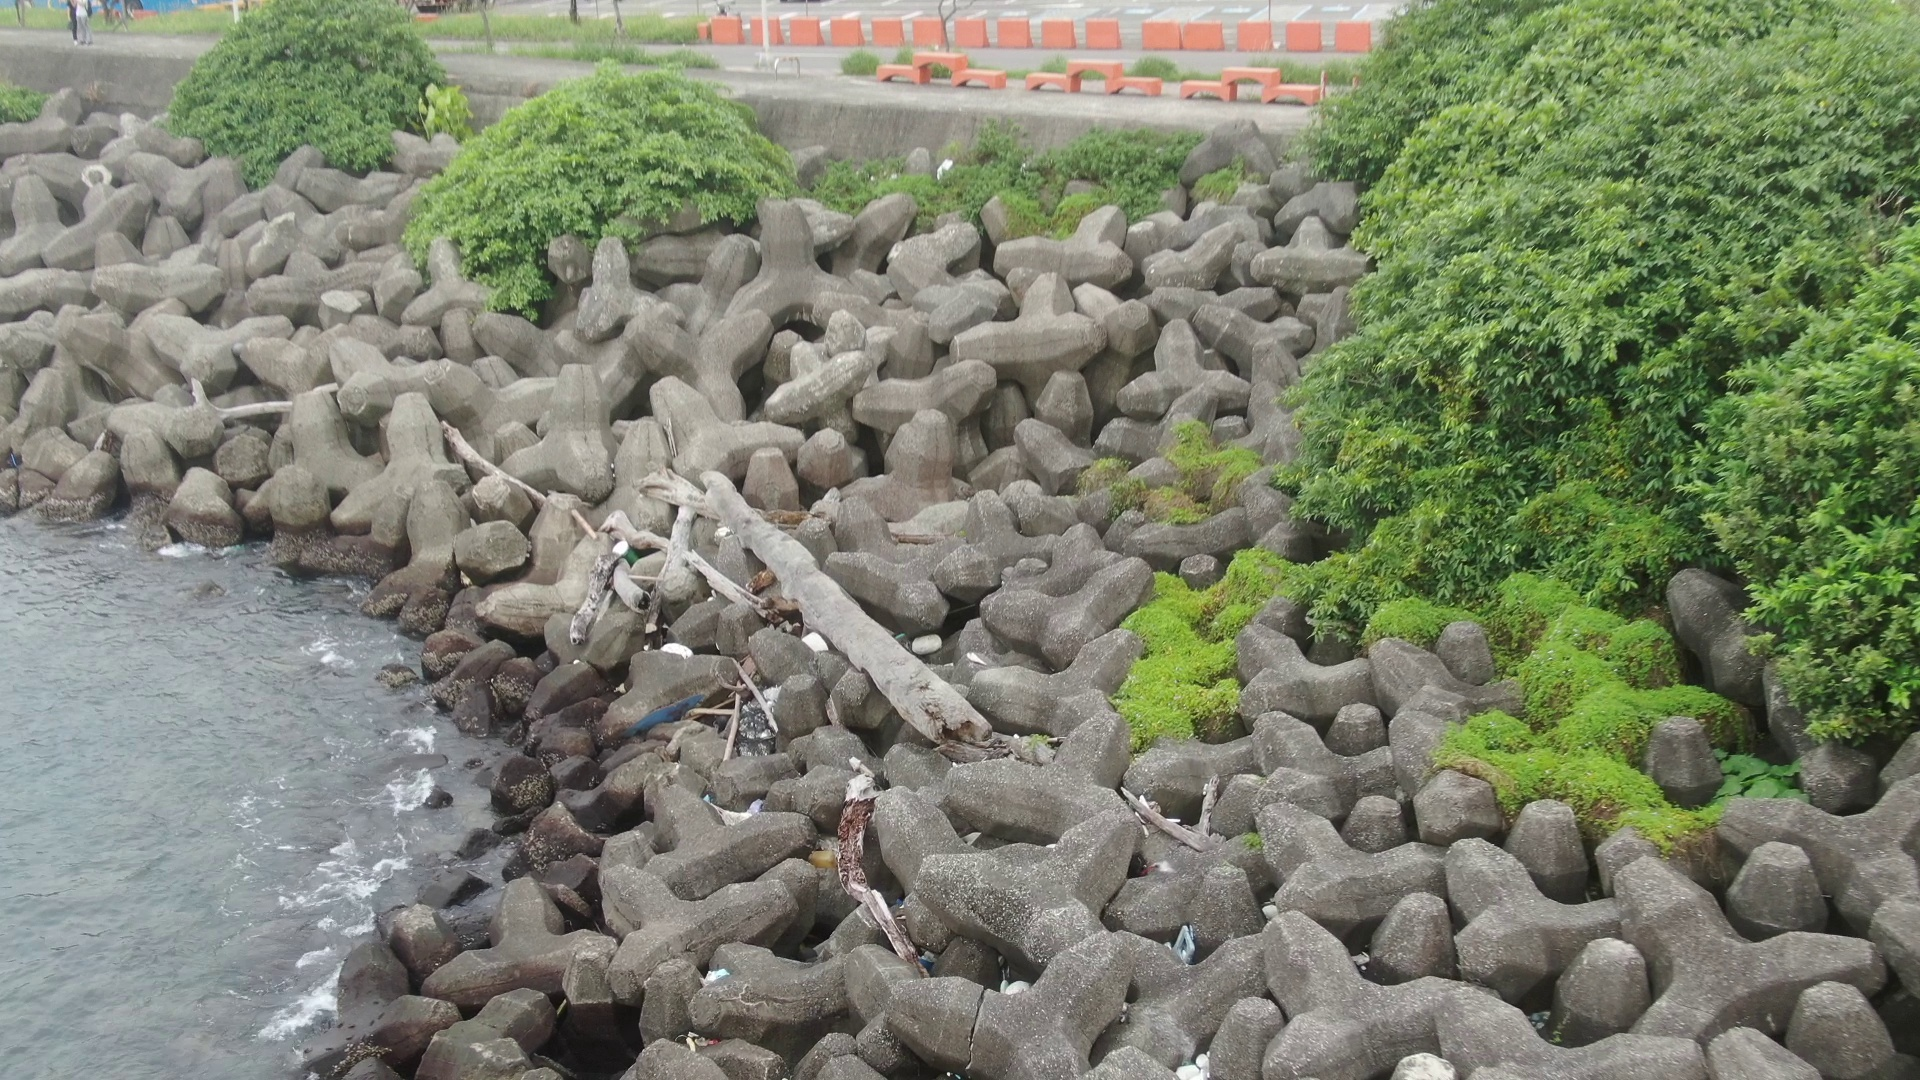garbage: (716, 667, 793, 770), (611, 674, 735, 729), (1162, 906, 1215, 976), (612, 533, 661, 576), (800, 622, 845, 661), (662, 632, 720, 661), (902, 629, 952, 659), (927, 152, 961, 181)
